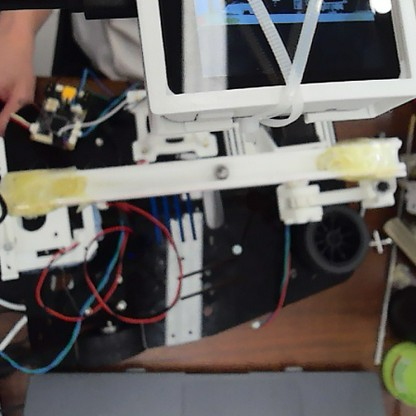ironball: (210, 163, 232, 181)
